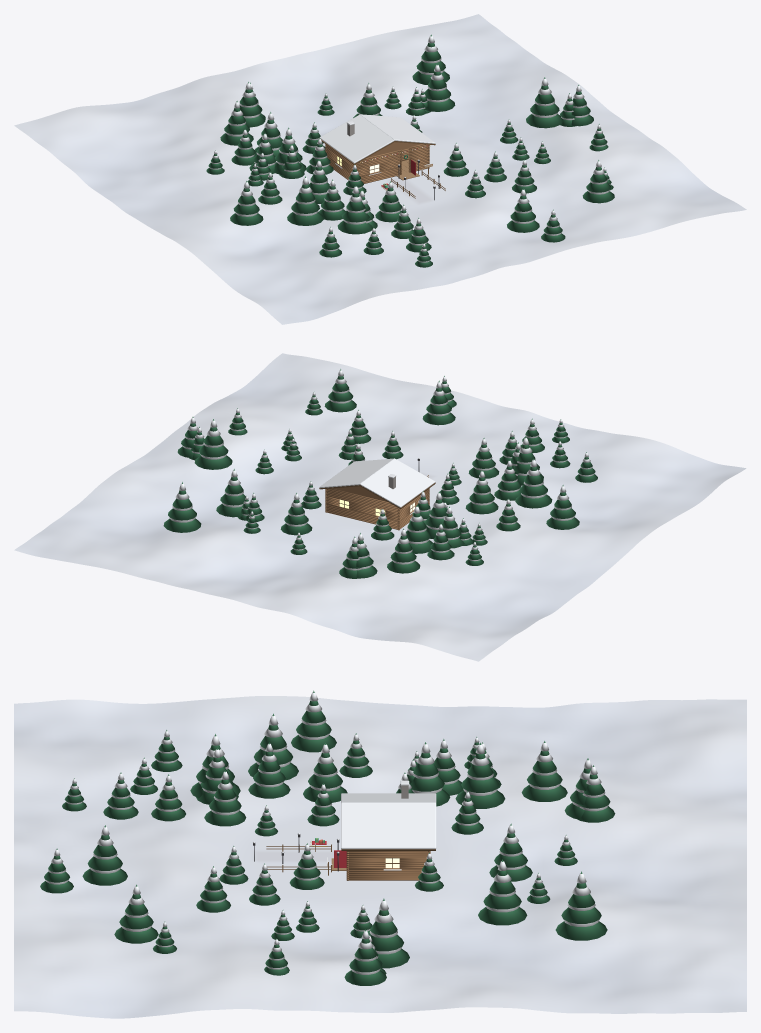
File: world.glb
3 renders of one model, top to bottom at view 1: azimuth 30°, elevation 25°; view 2: azimuth 150°, elevation 25°; view 3: azimuth 270°, elevation 25°, orthographic. The views are drawn at different scales.
Visible parts, largest first — view 1: Ground, Firs, Roof, BakeryWalls; view 2: Ground, Firs, Roof, BakeryWalls; view 3: Ground, Firs, Roof, BakeryWalls.
Boxes of the visible parts, bbox=[...] form: Ground: bbox=[14, 14, 746, 324]; Firs: bbox=[206, 34, 614, 267]; Roof: bbox=[319, 114, 435, 164]; BakeryWalls: bbox=[325, 144, 429, 183]; Ground: bbox=[14, 353, 746, 661]; Firs: bbox=[163, 369, 597, 578]; Roof: bbox=[319, 458, 435, 508]; BakeryWalls: bbox=[325, 488, 429, 530]; Ground: bbox=[14, 696, 746, 1018]; Firs: bbox=[40, 690, 615, 985]; Roof: bbox=[341, 780, 436, 850]; BakeryWalls: bbox=[346, 851, 430, 880].
Size of the model in its own units: 90 by 10.45 by 90.
